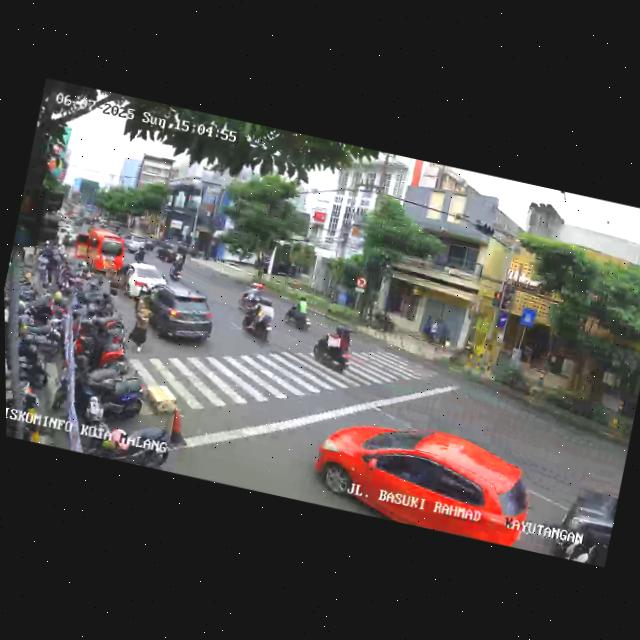car: (306, 406, 540, 549), (551, 472, 622, 567), (133, 281, 219, 353), (67, 223, 128, 279), (117, 259, 170, 304), (121, 230, 150, 258), (155, 240, 179, 265)
motorcycle: (307, 318, 357, 379), (237, 293, 280, 343), (234, 275, 273, 316), (281, 294, 316, 334), (167, 252, 187, 282)
person: (124, 291, 158, 355)
